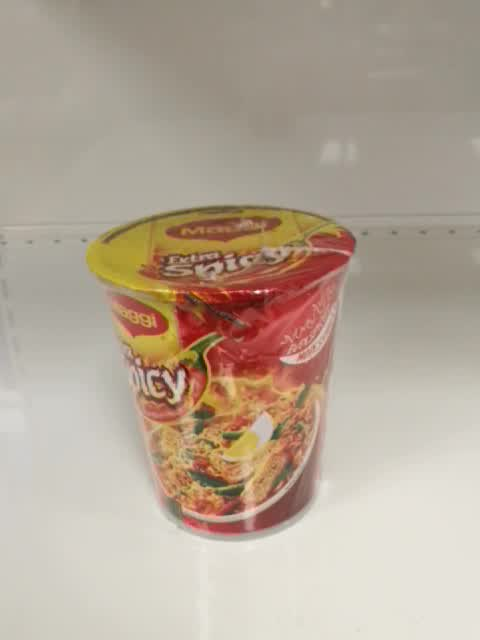maggi: (86, 203, 358, 544)
